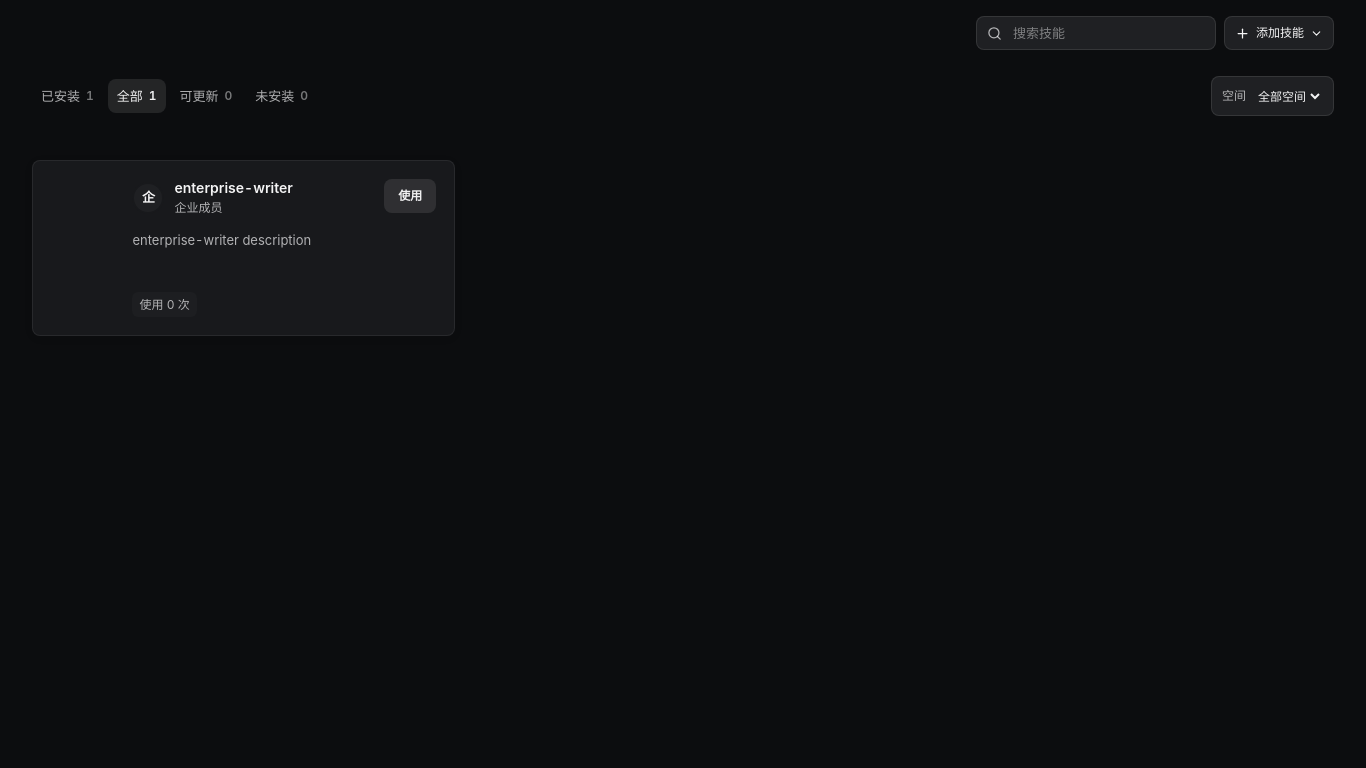
EnterpriseSkillHubView › closes a detail card when the refreshed catalog no longer contains it
The width and height of the screenshot is (1366, 768).
Click the button with aria-label "查看 enterprise-writer 详情".
click(244, 248)  # box [33,161,454,335]
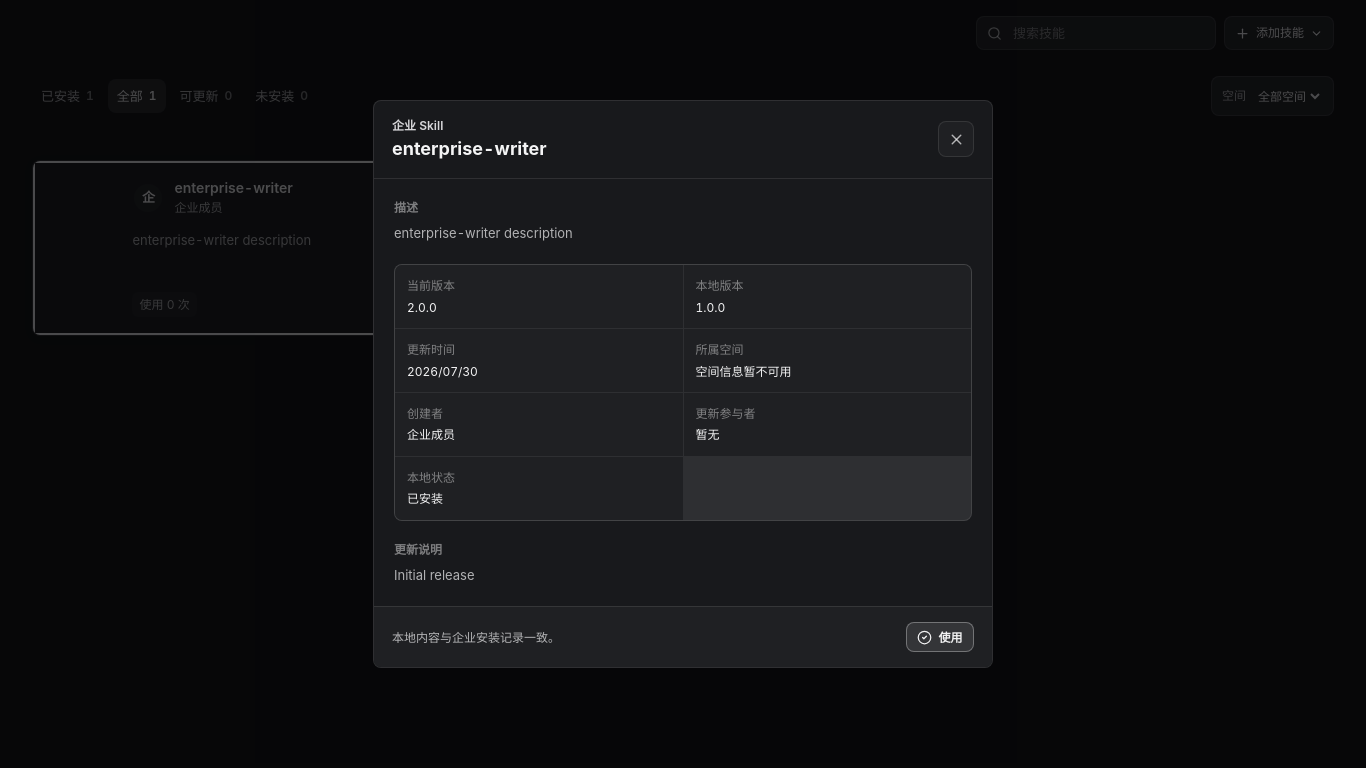
Now the dialog named "enterprise-writer 详情" is shown, box [373,100,993,668]
